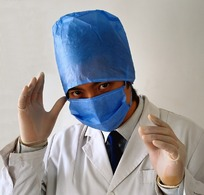face_mask: (65, 69, 124, 128)
